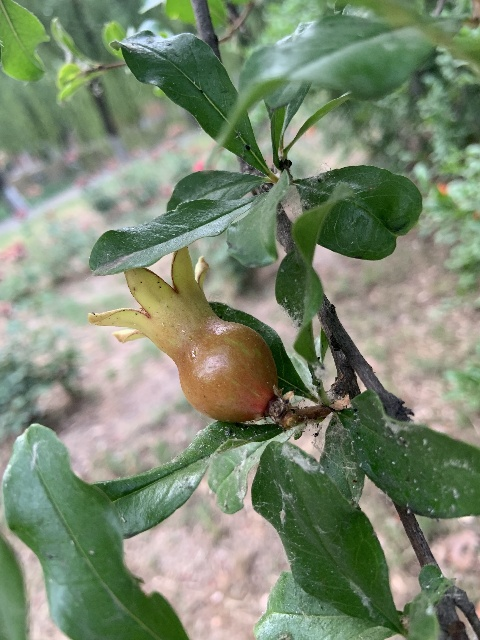early-fruit: (87, 247, 276, 423)
